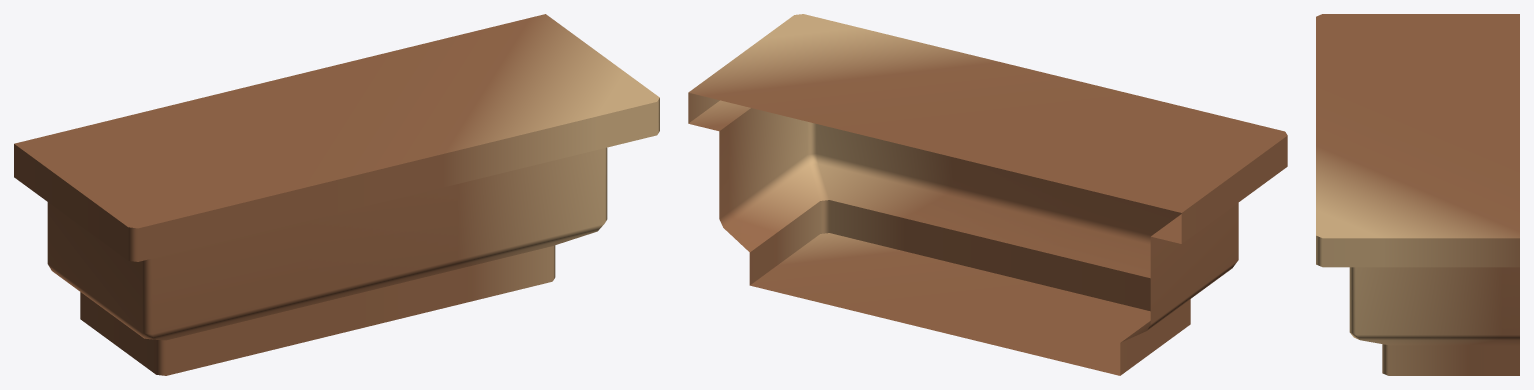
File: DBK_Trim_A_Cap.fbx
The picture shows the model from 3 angles, left to right: view 1: azimuth 30°, elevation 25°; view 2: azimuth 150°, elevation 25°; view 3: azimuth 270°, elevation 25°; orthographic projection. The views are drawn at different scales.
Visible parts, largest first — view 1: DBK_Trim_A_Cap; view 2: DBK_Trim_A_Cap; view 3: DBK_Trim_A_Cap.
Part boxes in pixels (x1,y1,x2,y2): DBK_Trim_A_Cap: (14, 14, 659, 375); DBK_Trim_A_Cap: (688, 14, 1287, 375); DBK_Trim_A_Cap: (1316, 14, 1519, 375).
Bounding box in the file's own units: 76.35 × 26.31 × 29.31.
